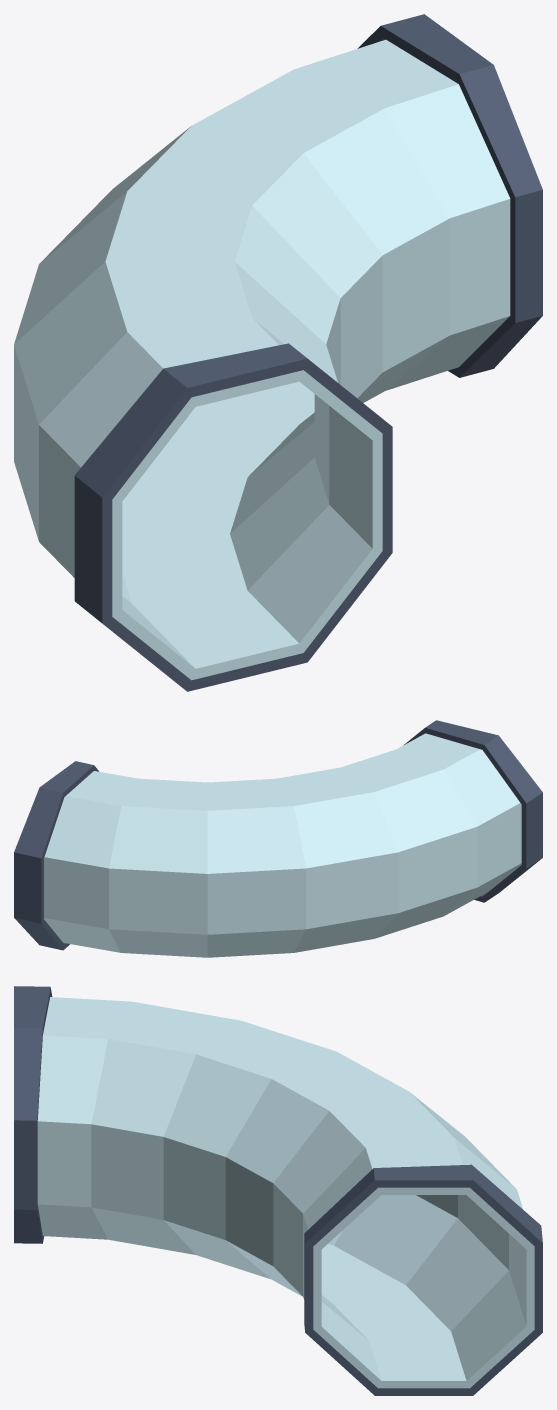
Rendered from SM_RatTube_Elbow_90.glb.
3 views of the same model, one above another, from view 1: azimuth 30°, elevation 25°; view 2: azimuth 150°, elevation 25°; view 3: azimuth 270°, elevation 25° (orthographic). The views are drawn at different scales.
Parts seen in each view (by area): view 1: SM_RatTube_Elbow_90-col; view 2: SM_RatTube_Elbow_90-col; view 3: SM_RatTube_Elbow_90-col.
Part boxes in pixels (left/top/right/bottom): SM_RatTube_Elbow_90-col: left=14, top=14, right=542, bottom=691; SM_RatTube_Elbow_90-col: left=14, top=720, right=542, bottom=957; SM_RatTube_Elbow_90-col: left=14, top=986, right=542, bottom=1395.
Bounding box in the file's own units: 1.29 × 0.58 × 1.29.
